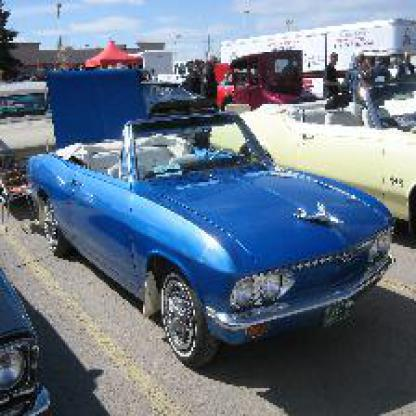not_emergency: (2, 52, 412, 379)
